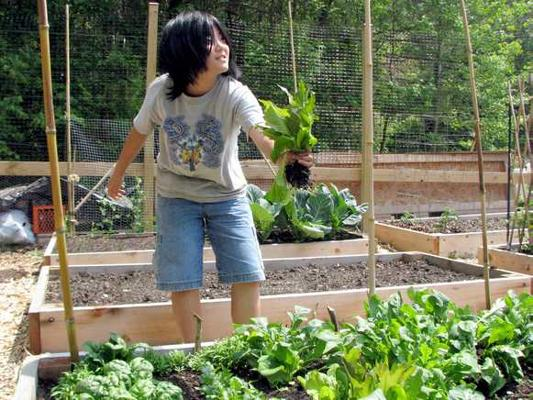person: (103, 10, 314, 344)
